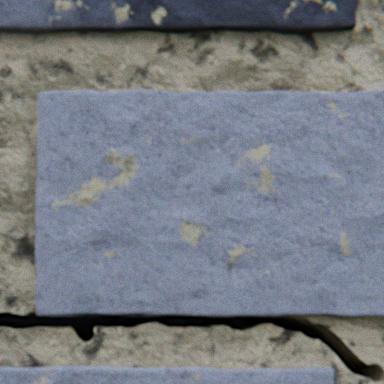brick: (35, 90, 383, 317), (0, 0, 355, 35), (0, 366, 333, 383)
crack: (0, 311, 383, 383)
